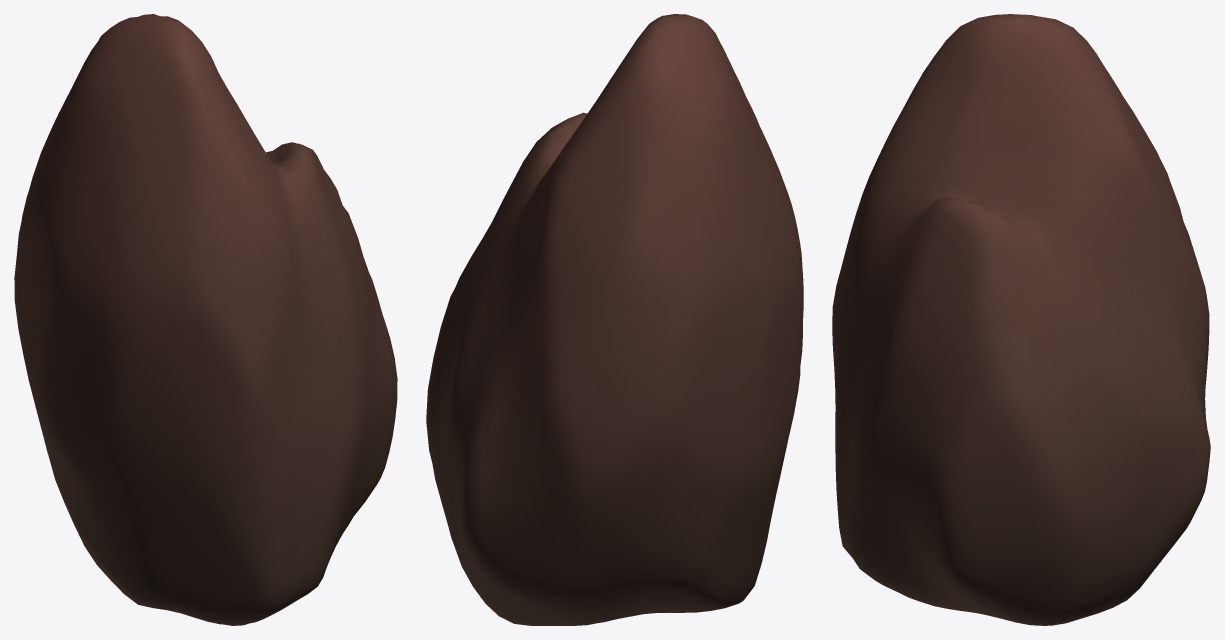
The model's file is Rock6_Textured.fbx.
3 views of the same model, side by side, from view 1: azimuth 30°, elevation 25°; view 2: azimuth 150°, elevation 25°; view 3: azimuth 270°, elevation 25° (orthographic). The views are drawn at different scales.
Visible parts, largest first — view 1: Burned_tree1_LowPoly:Group52279; view 2: Burned_tree1_LowPoly:Group52279; view 3: Burned_tree1_LowPoly:Group52279.
Boxes of the visible parts, x1=… form: Burned_tree1_LowPoly:Group52279: x1=14, y1=14, x2=397, y2=625; Burned_tree1_LowPoly:Group52279: x1=426, y1=14, x2=803, y2=625; Burned_tree1_LowPoly:Group52279: x1=832, y1=14, x2=1210, y2=625.
Size of the model in its own units: 1.11 by 1.95 by 1.19.
Materials: 1 (1 with a texture image).
